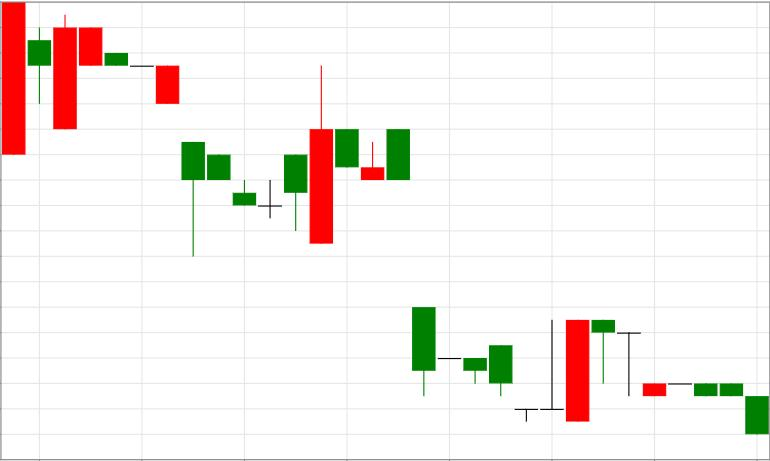bullish_engulfing_rise: (181, 65, 333, 256)
hammer_rise: (53, 15, 205, 257)
